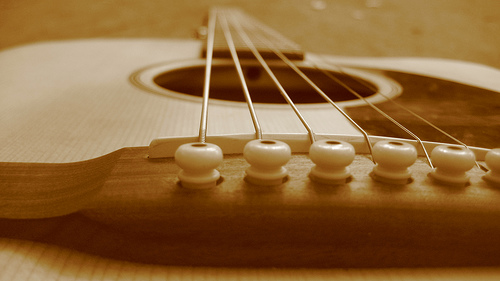guitar: (1, 1, 500, 281)
